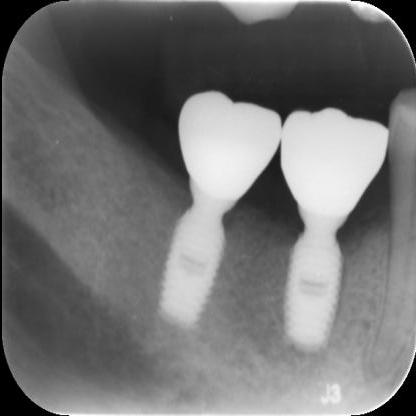Bicon: (274, 228, 352, 374), (146, 209, 234, 338)
